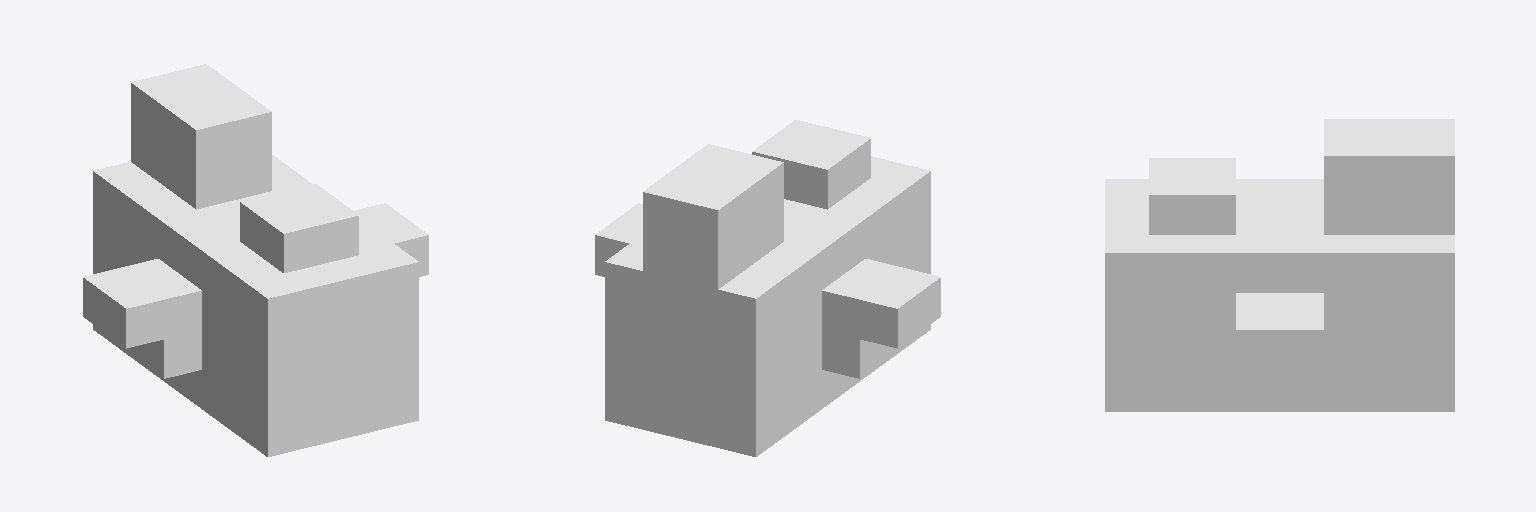
Rendered from OBJ_ClownFish.obj.
3 views of the same model, side by side, from view 1: azimuth 30°, elevation 25°; view 2: azimuth 150°, elevation 25°; view 3: azimuth 270°, elevation 25° (orthographic).
Parts seen in each view (by area): view 1: object 1; view 2: object 1; view 3: object 1.
Part boxes in pixels (x1,y1,x2,y2): object 1: (83, 64, 428, 456); object 1: (595, 120, 940, 456); object 1: (1105, 119, 1454, 411).
Size of the model in its own units: 0.8 by 0.6 by 0.8.